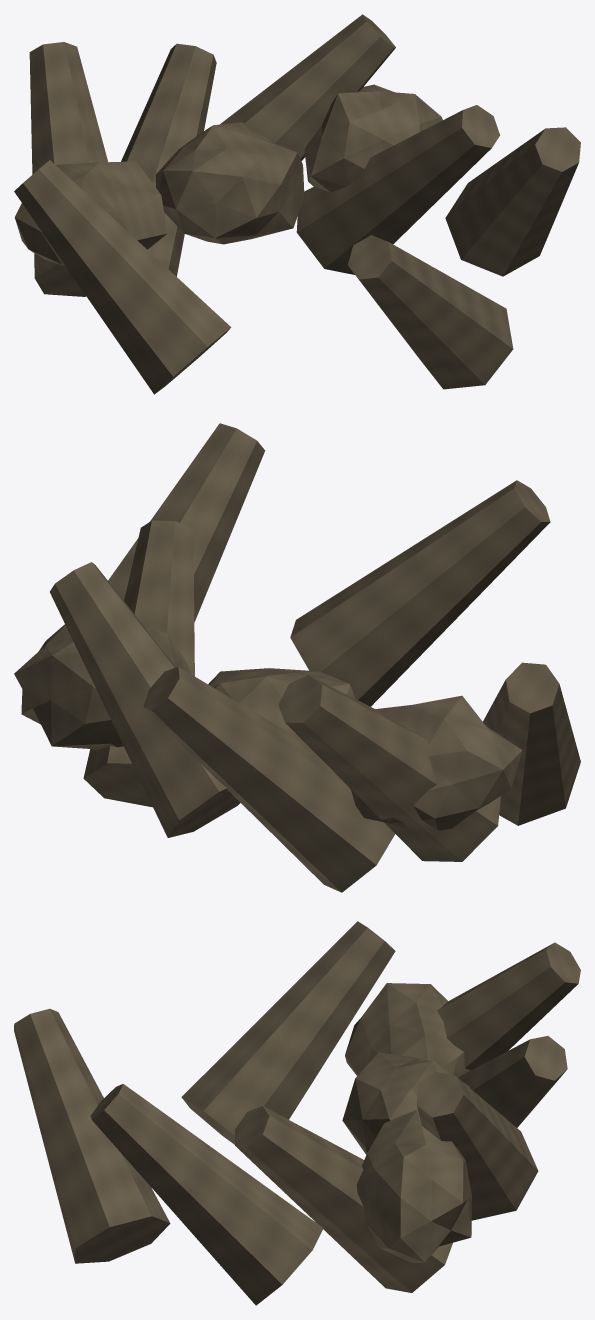
File: underworld-resource-bone-gravel.glb
The picture shows the model from 3 angles, top to bottom: view 1: azimuth 30°, elevation 25°; view 2: azimuth 150°, elevation 25°; view 3: azimuth 270°, elevation 25°; orthographic projection. The views are drawn at different scales.
Visible parts, largest first — view 1: broken-shaft-4, broken-shaft-0, joint-fragment-1, broken-shaft-2, broken-shaft-5, broken-shaft-3, broken-shaft-1, joint-fragment-2, broken-shaft-6, joint-fragment-0; view 2: broken-shaft-2, broken-shaft-6, broken-shaft-3, broken-shaft-1, joint-fragment-0, broken-shaft-4, broken-shaft-0, broken-shaft-5, joint-fragment-2, joint-fragment-1; view 3: broken-shaft-5, broken-shaft-2, broken-shaft-4, broken-shaft-0, joint-fragment-2, broken-shaft-3, broken-shaft-1, joint-fragment-0, broken-shaft-6, joint-fragment-1.
Boxes of the visible parts, x1,y1,x2,y2 form: broken-shaft-4: [14, 160, 231, 394]; broken-shaft-0: [296, 105, 500, 274]; joint-fragment-1: [155, 122, 304, 244]; broken-shaft-2: [348, 235, 513, 389]; broken-shaft-5: [445, 127, 580, 276]; broken-shaft-3: [220, 14, 395, 160]; broken-shaft-1: [29, 42, 107, 296]; joint-fragment-2: [304, 84, 442, 192]; broken-shaft-6: [121, 43, 216, 276]; joint-fragment-0: [14, 161, 167, 265]; broken-shaft-2: [290, 480, 550, 706]; broken-shaft-6: [143, 666, 394, 892]; broken-shaft-3: [50, 562, 240, 837]; broken-shaft-1: [278, 675, 500, 861]; joint-fragment-0: [350, 695, 522, 830]; broken-shaft-4: [483, 662, 580, 825]; broken-shaft-0: [83, 520, 194, 807]; broken-shaft-5: [108, 423, 265, 622]; joint-fragment-2: [14, 624, 190, 750]; joint-fragment-1: [208, 668, 355, 740]; broken-shaft-5: [90, 1084, 323, 1305]; broken-shaft-2: [14, 1008, 170, 1263]; broken-shaft-4: [181, 921, 395, 1144]; broken-shaft-0: [235, 1106, 452, 1292]; joint-fragment-2: [356, 1109, 471, 1262]; broken-shaft-3: [417, 1071, 538, 1220]; broken-shaft-1: [437, 942, 580, 1070]; joint-fragment-0: [345, 983, 470, 1077]; broken-shaft-6: [458, 1036, 567, 1127]; joint-fragment-1: [342, 1052, 469, 1154].
Size of the model in its own units: 0.1589 by 0.0721 by 0.1597.
Materials: 1 (1 with a texture image).
